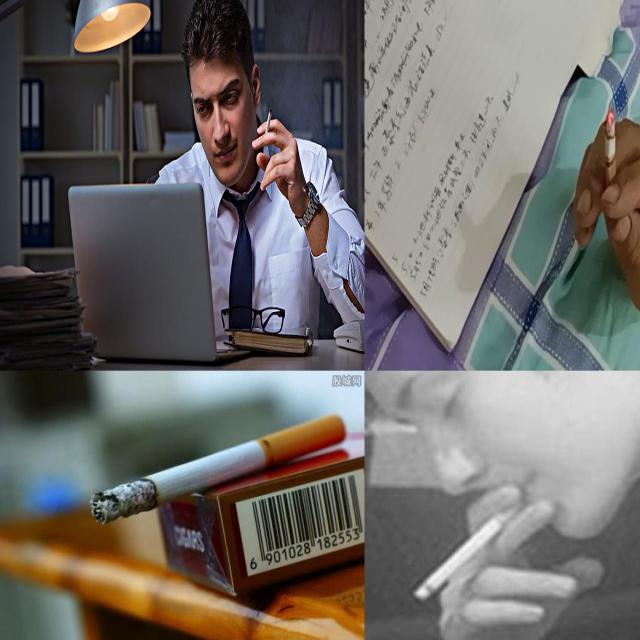smoking: (90, 414, 346, 525), (412, 498, 526, 602), (604, 108, 618, 202), (264, 108, 273, 138)
